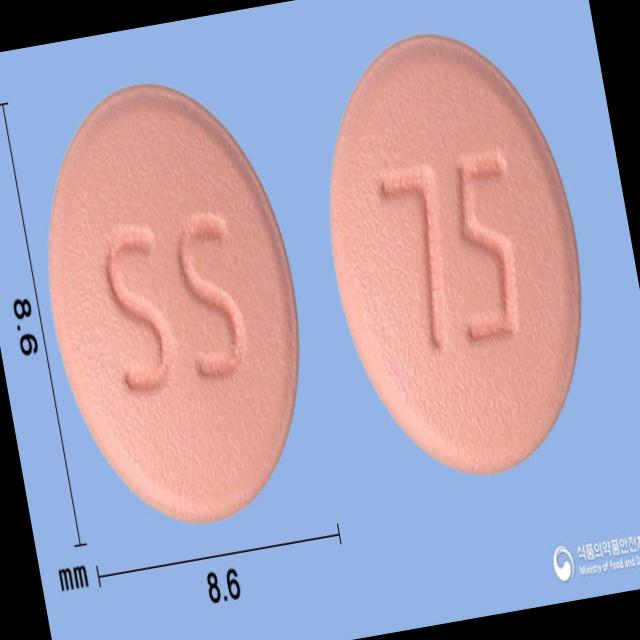Clozex: (294, 9, 614, 495), (14, 59, 330, 543)
